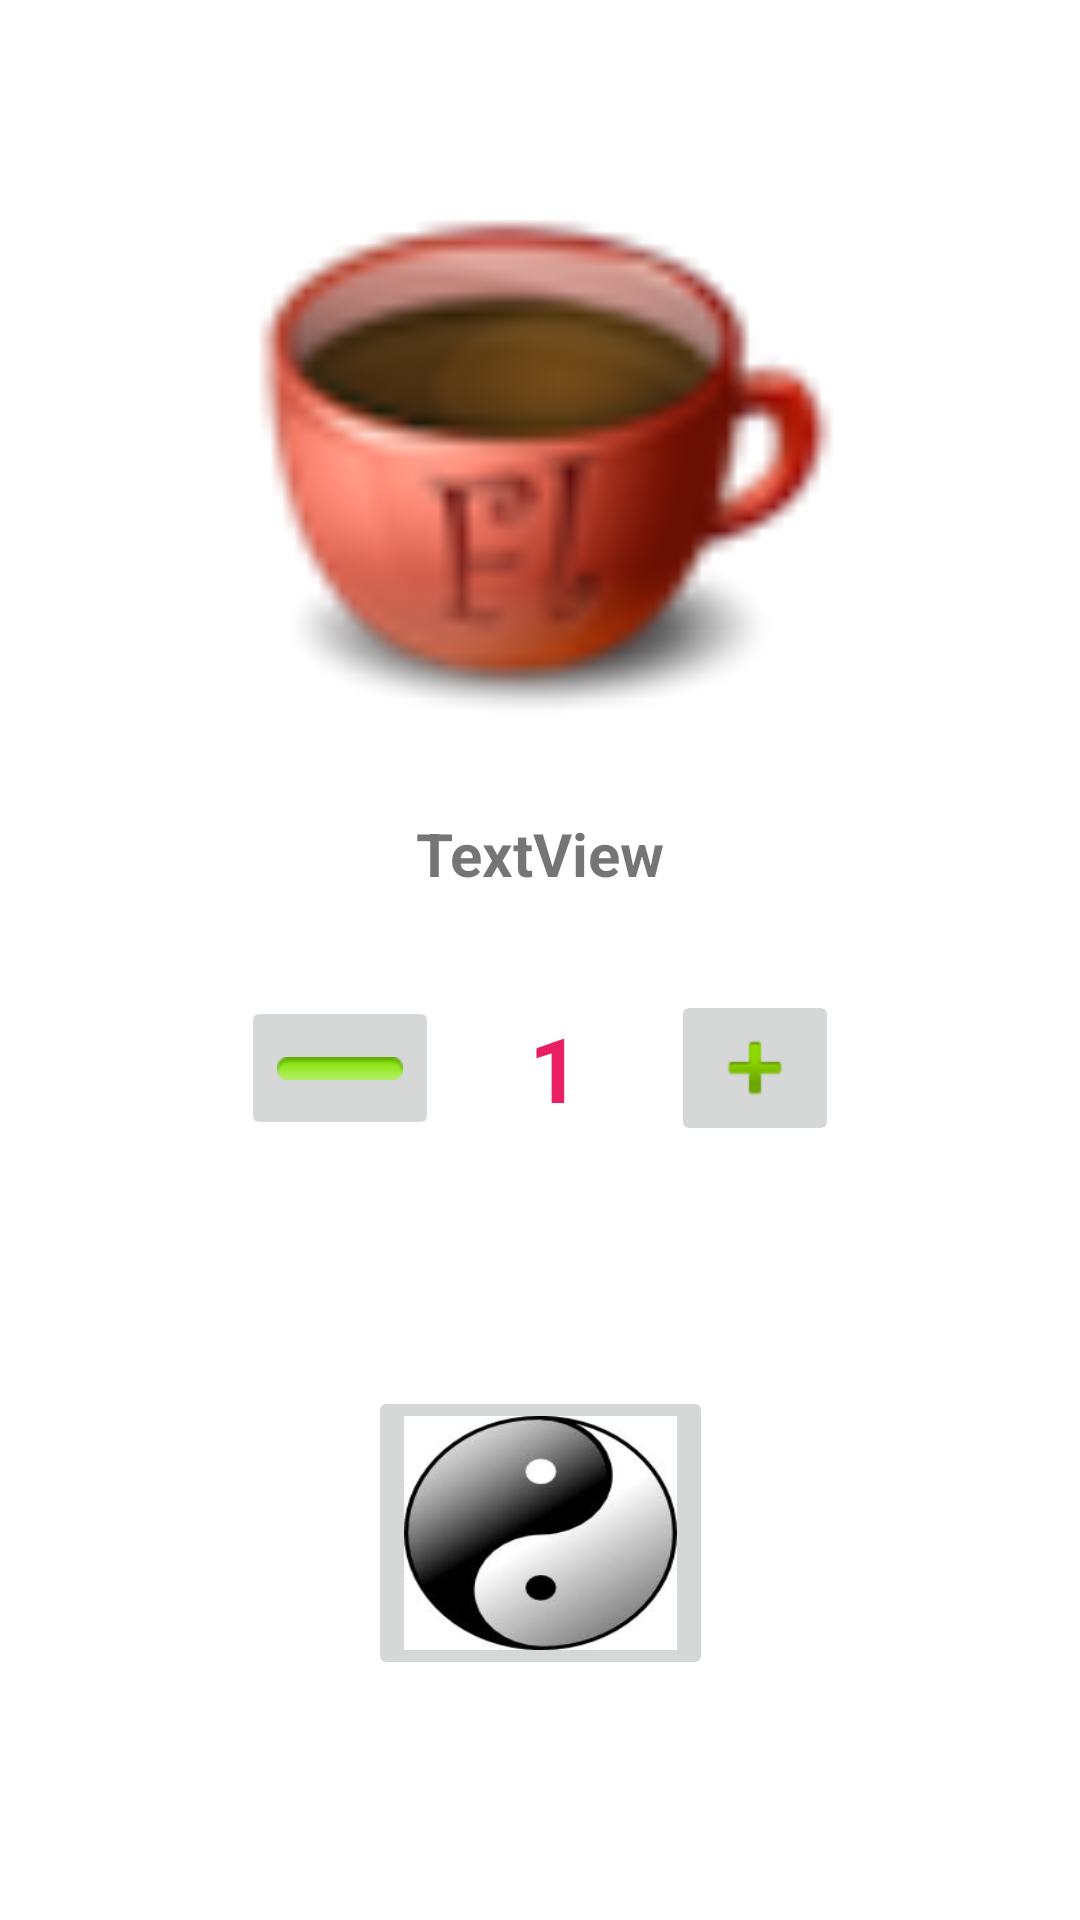

Icon click points for this 1080w x 1920h phone screenshot, format (x,y):
add: (755,1068)
